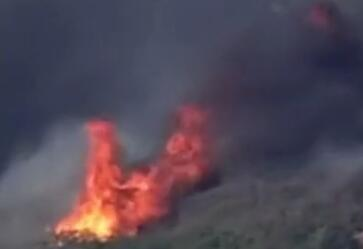fire: (44, 100, 213, 243)
